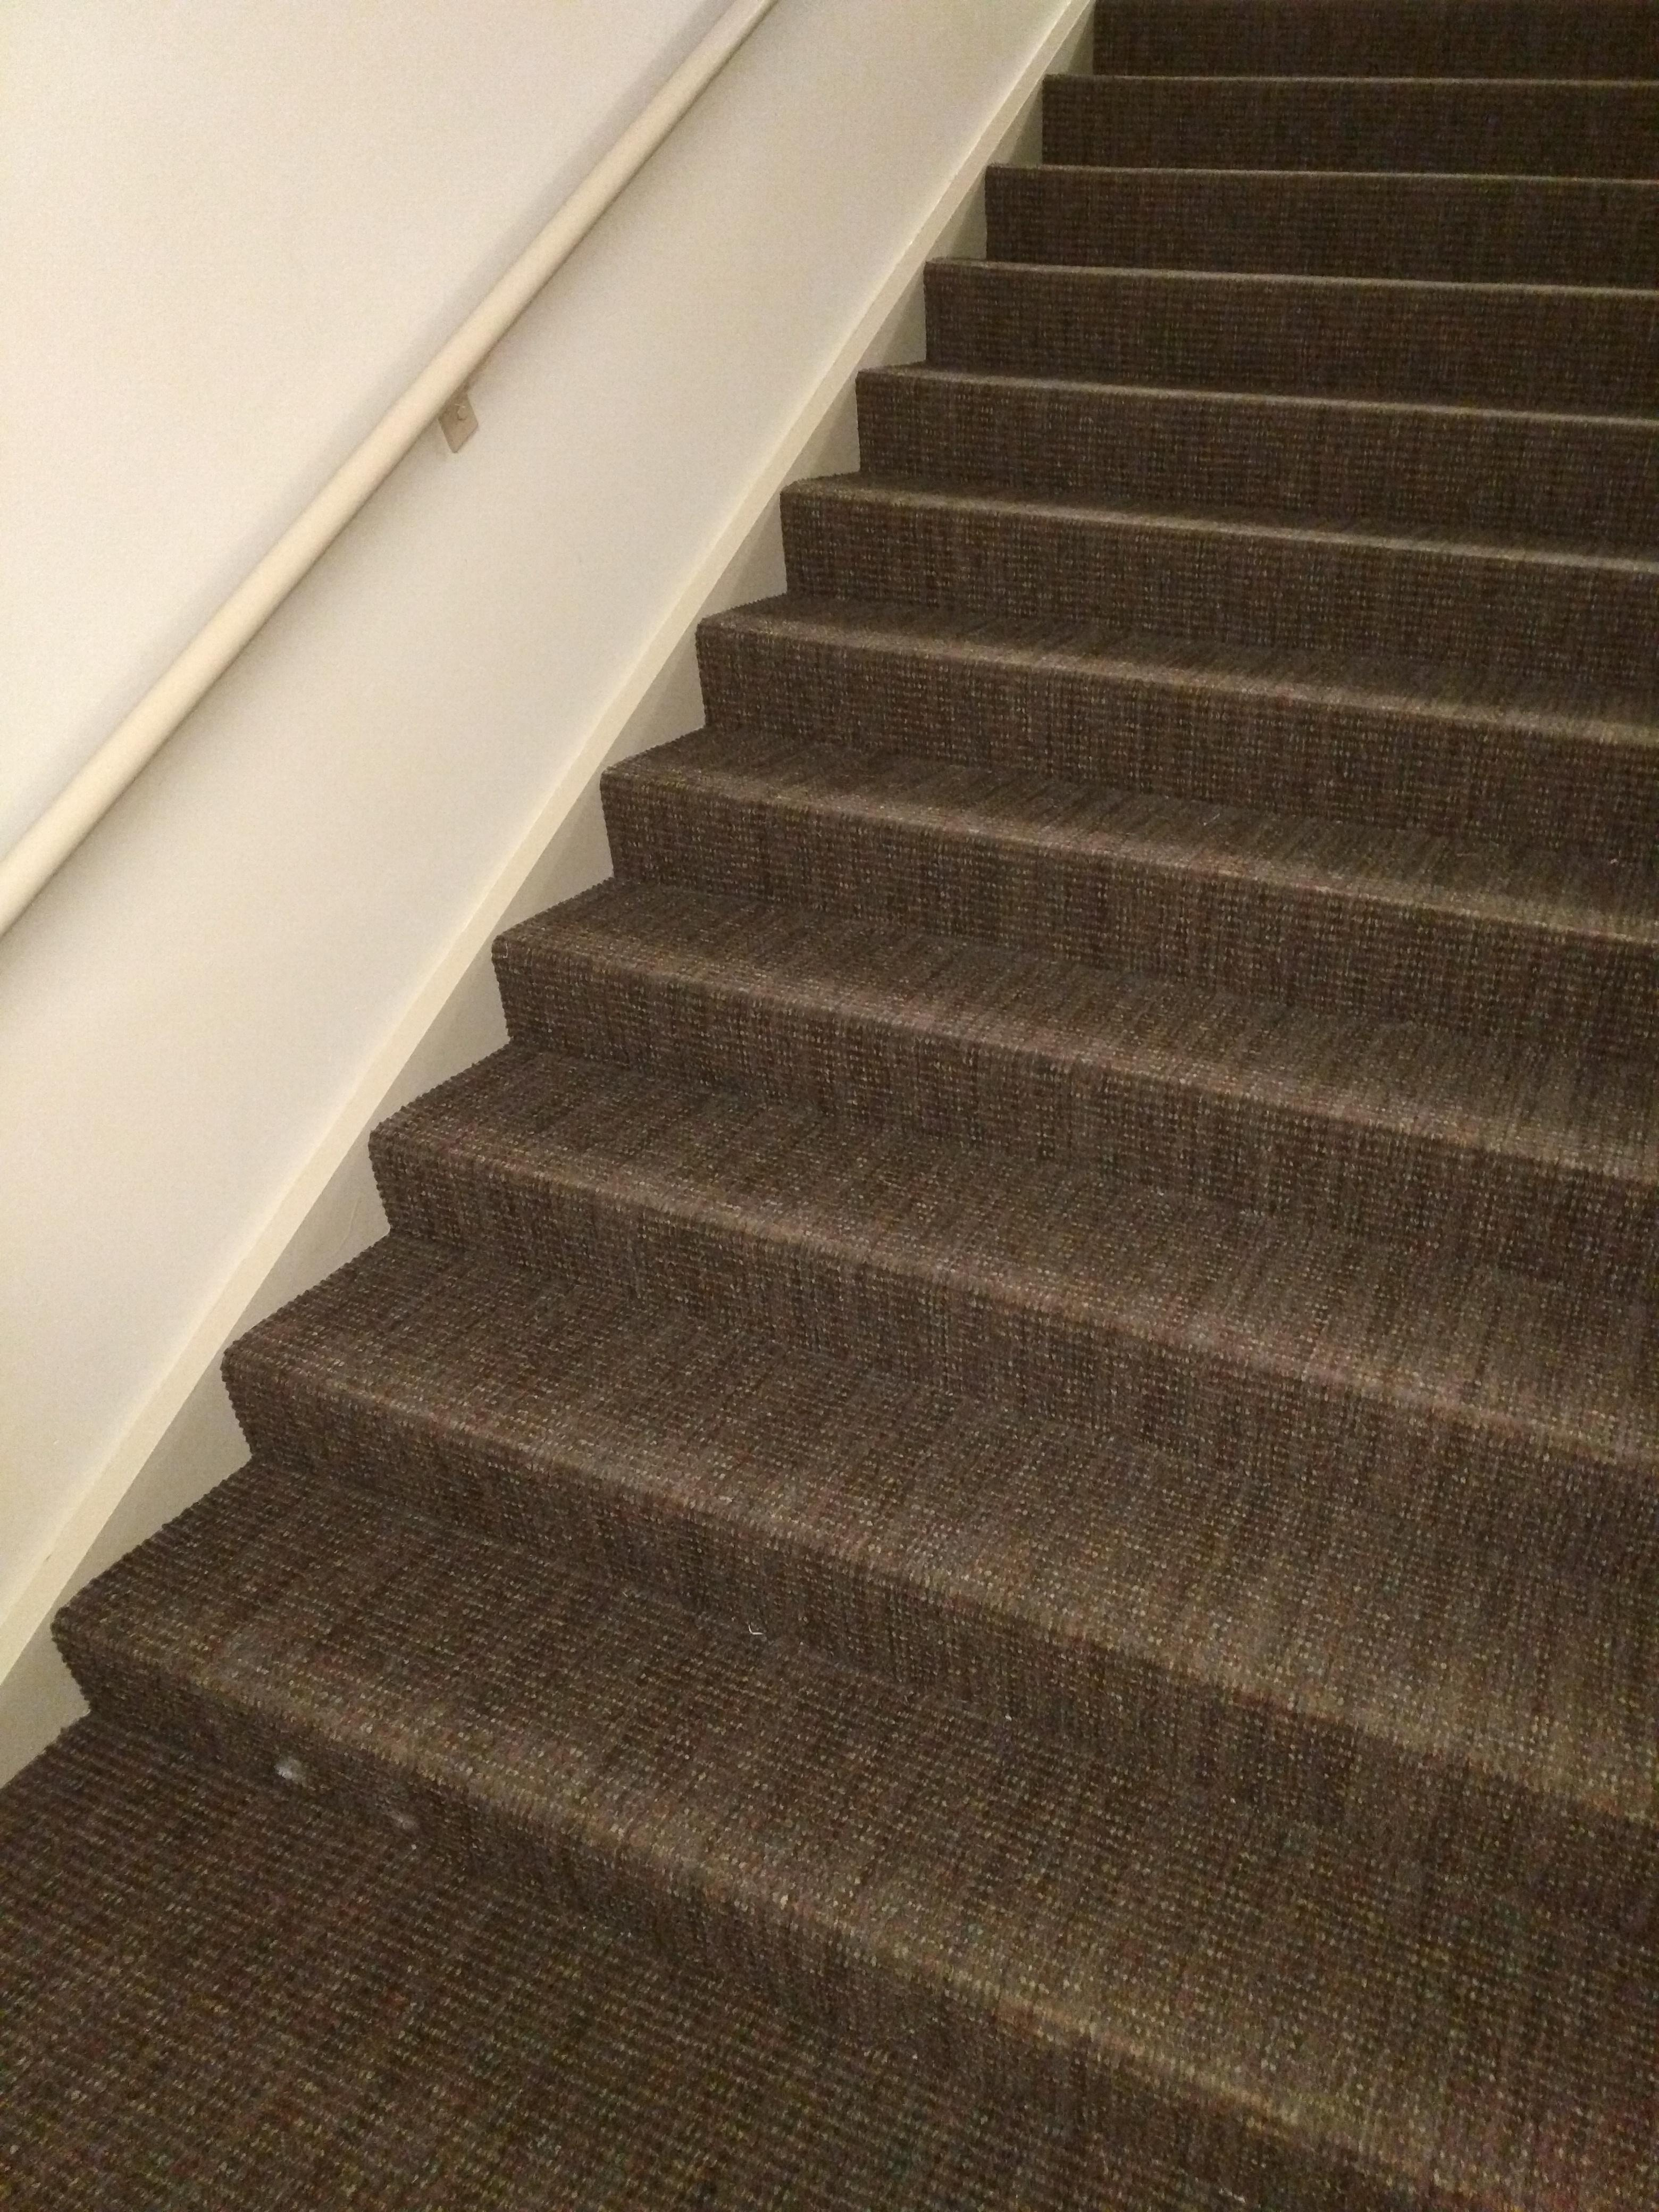stairs_up: (66, 12, 1659, 2168)
